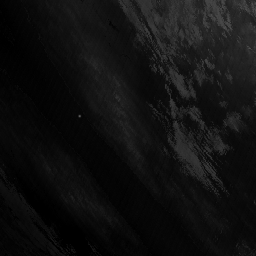Target: (76, 113, 82, 119)
